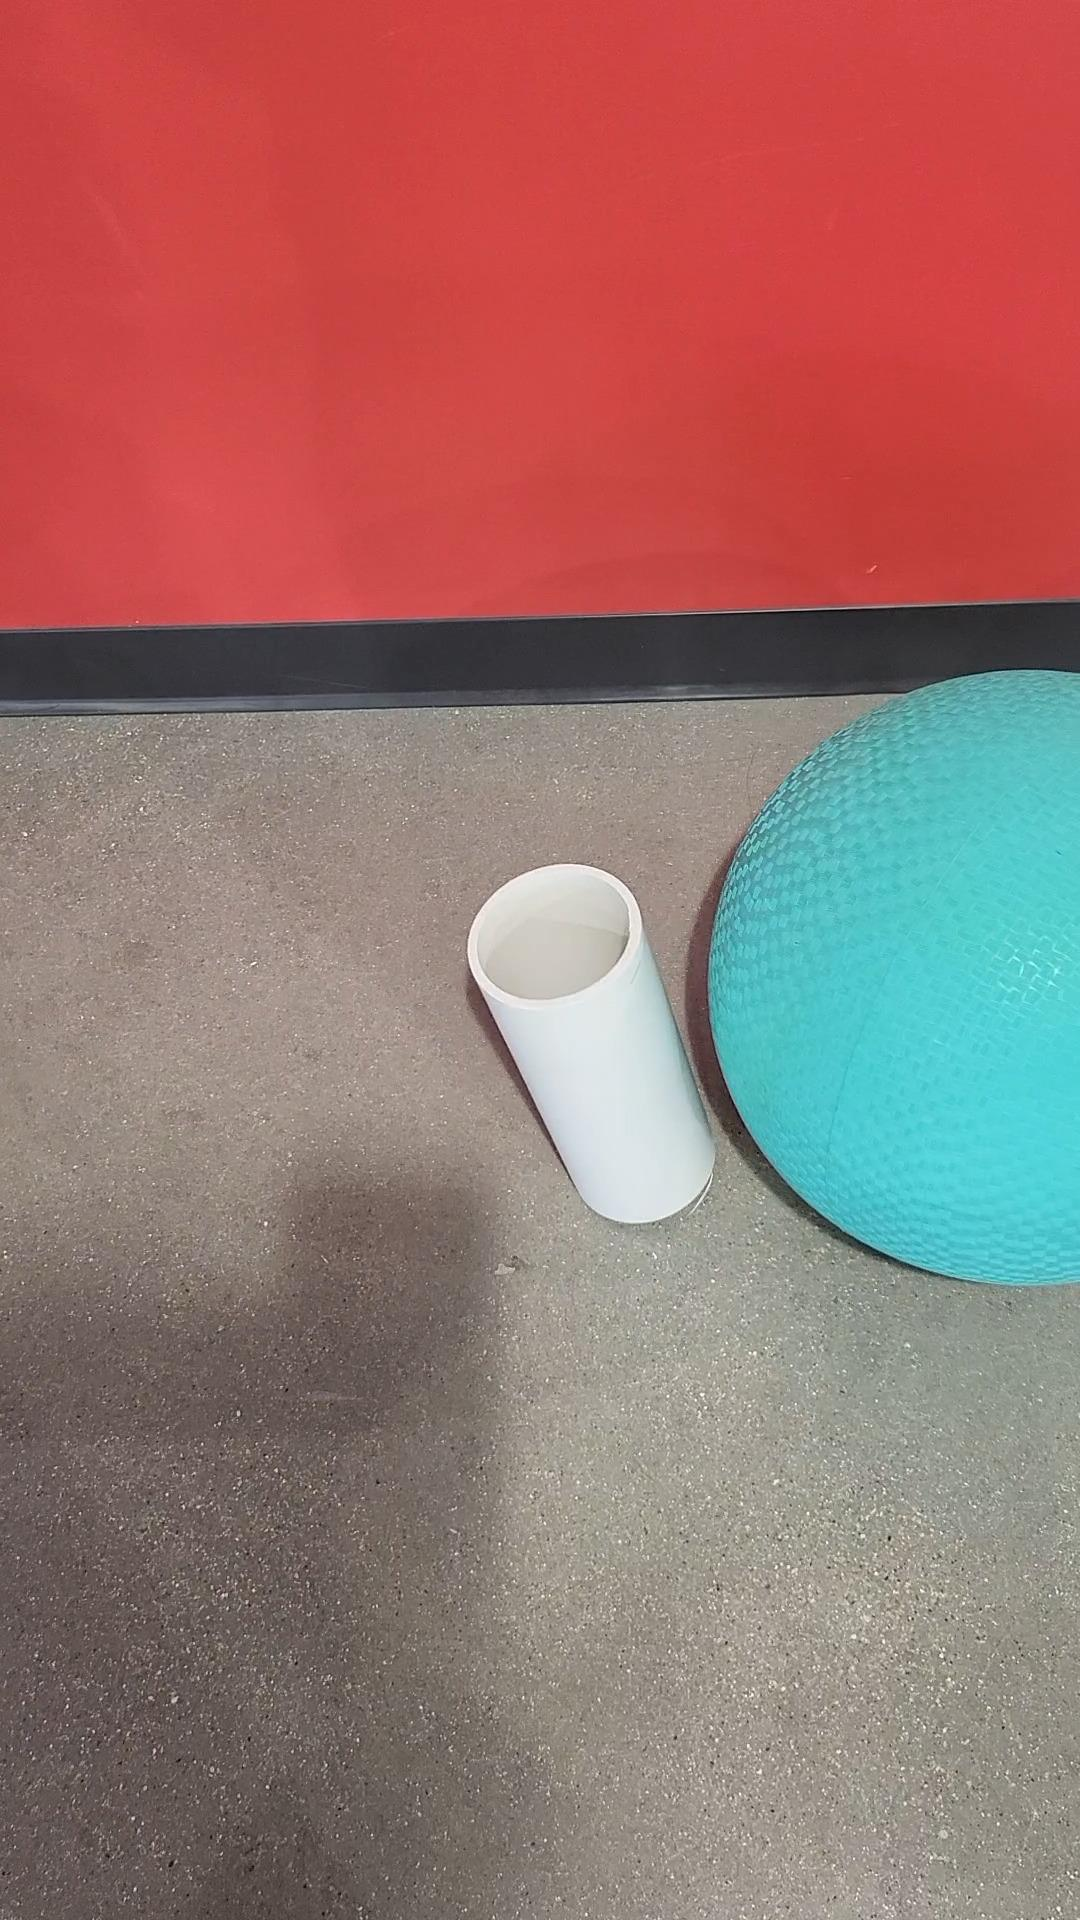algae: (708, 669, 1079, 1290)
coral: (465, 857, 717, 1228)
